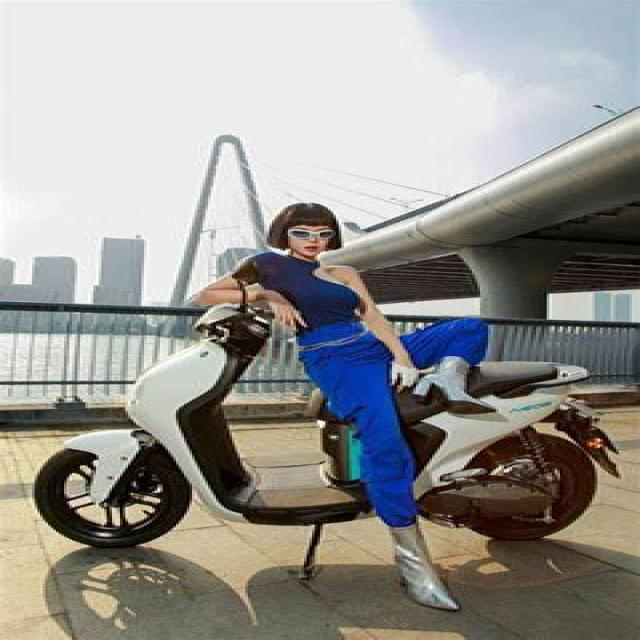motorcycle: (17, 283, 634, 581)
